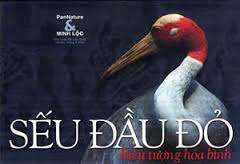seu_dau_do: (99, 12, 233, 155)
